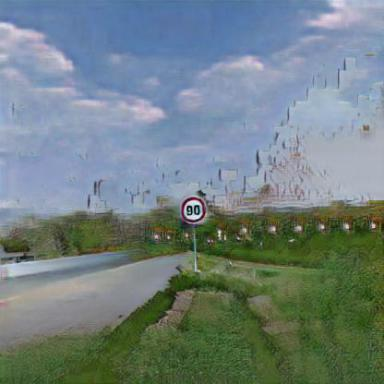Speed_limit_90: (180, 197, 207, 224)
